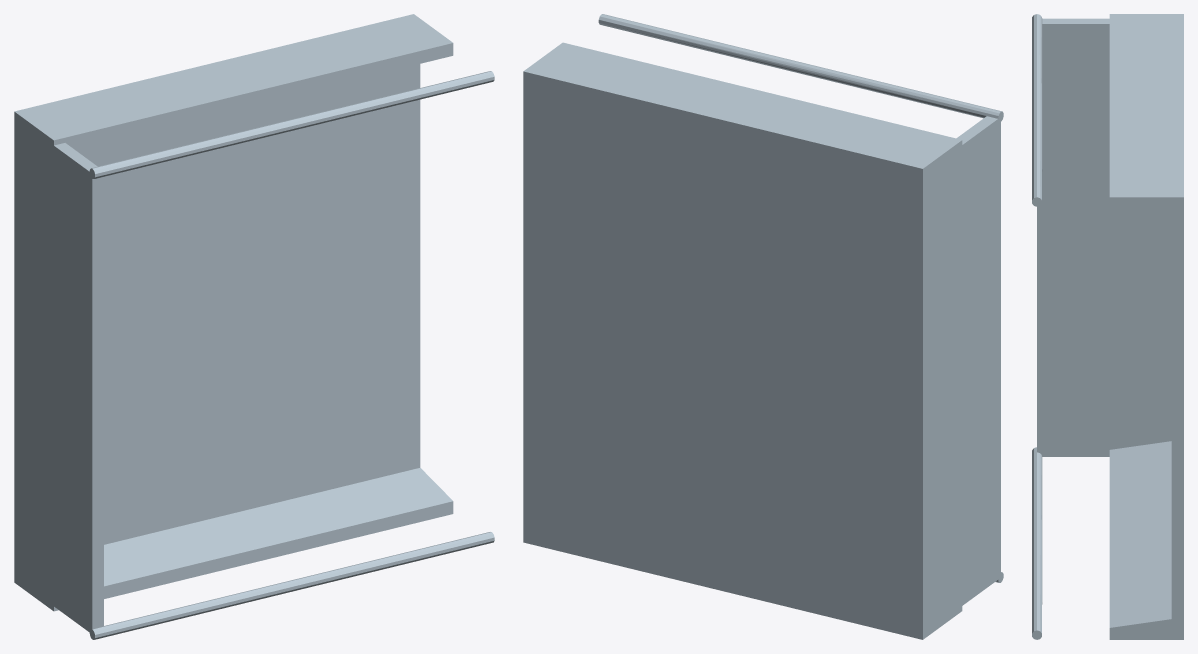
Rendered from mobile-kitchen-counter__DrawerMiddle_interior.obj.
3 renders of one model, left to right at view 1: azimuth 30°, elevation 25°; view 2: azimuth 150°, elevation 25°; view 3: azimuth 270°, elevation 25°, orthographic. The views are drawn at different scales.
Visible parts, largest first — view 1: interior.001_o57_IndexedFaceSet; view 2: interior.001_o57_IndexedFaceSet; view 3: interior.001_o57_IndexedFaceSet.
Part boxes in pixels (left/top/right/bottom): interior.001_o57_IndexedFaceSet: left=14, top=14, right=494, bottom=639; interior.001_o57_IndexedFaceSet: left=523, top=14, right=1003, bottom=639; interior.001_o57_IndexedFaceSet: left=1032, top=14, right=1183, bottom=639.
Bounding box in the file's own units: 0.49 × 0.552 × 0.1717.
